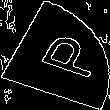P_NW: (16, 28, 94, 82)
